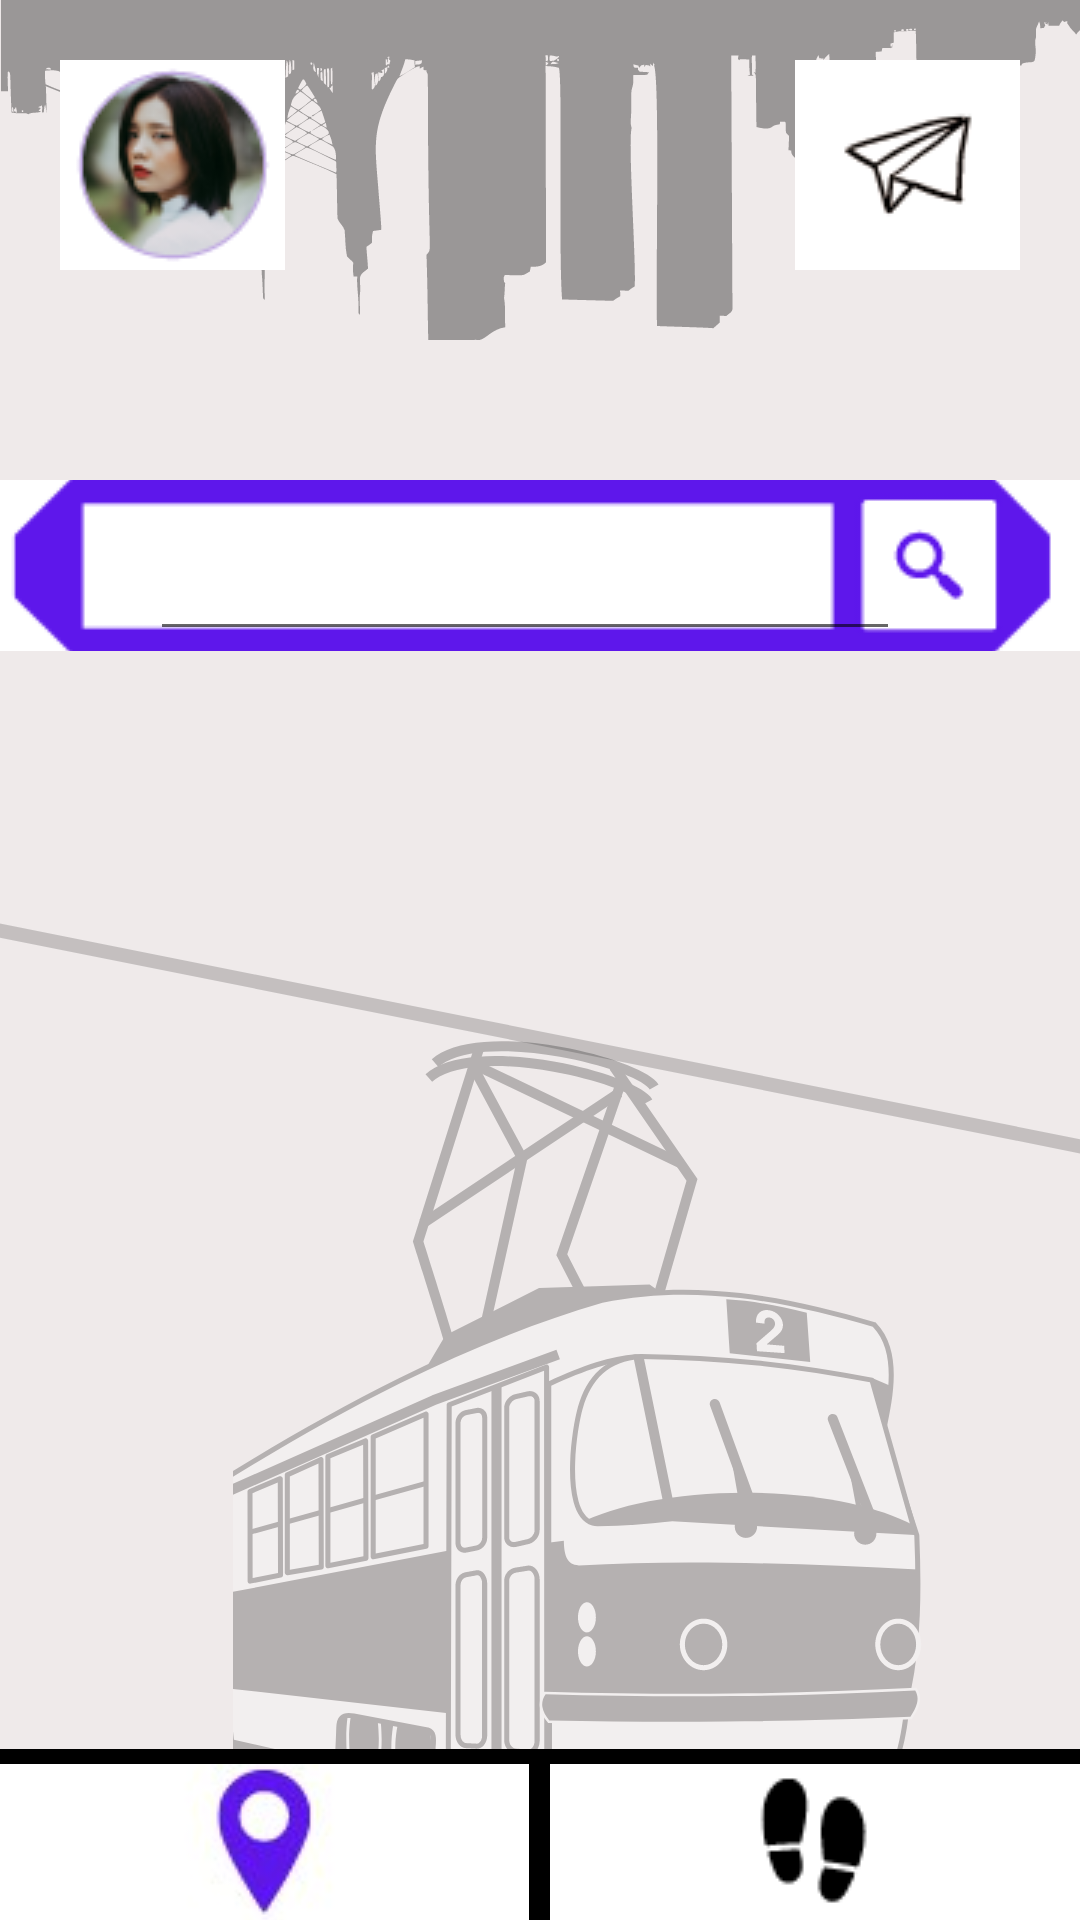

Named icons in this screenshot (1080×1920) and their bounding boxes, box(x1, y1, x2, y2):
dmbutton: box(795, 60, 1020, 270)
profile: box(80, 72, 266, 258)
